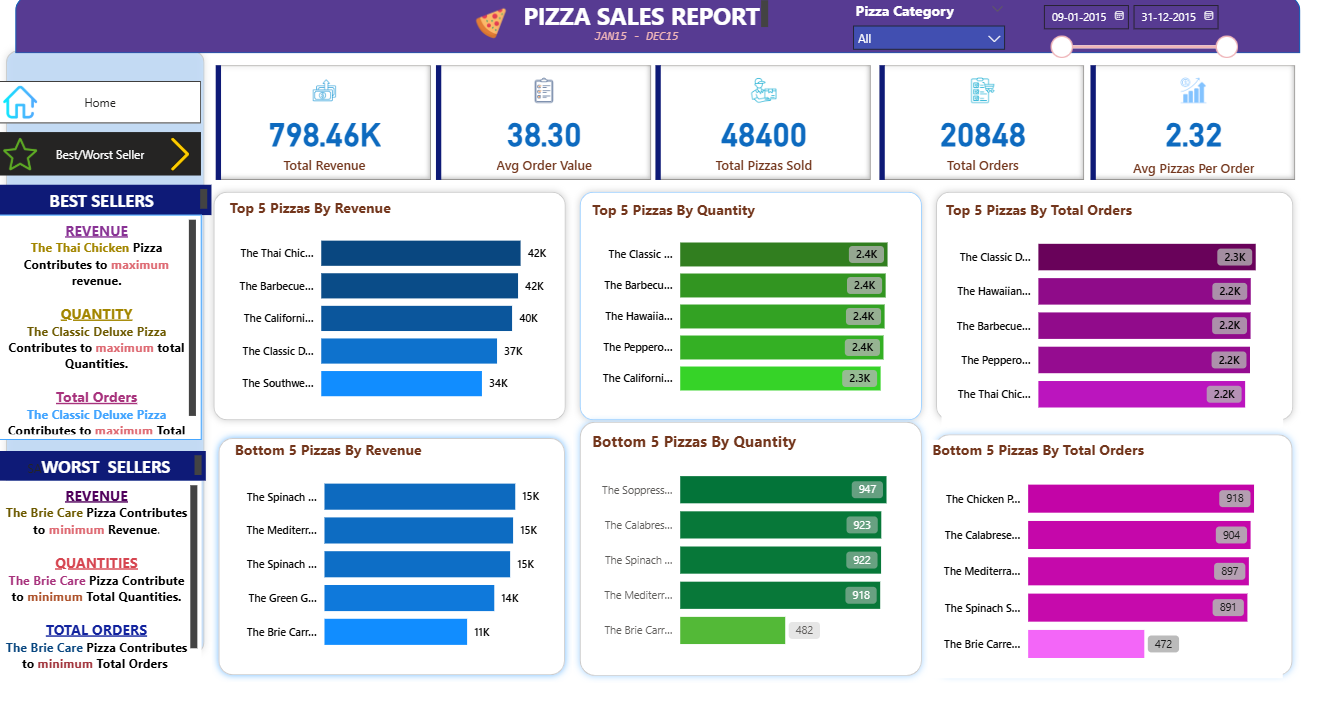

The dashboard page shown, as its layout file describes it:
{"tool":"powerbi","page":{"name":"Best/Worst Seller","canvas":[1500,820],"ordinal":1},"visuals":[{"type":"shape","box":[0,53.8,240.8,699.9],"z":0},{"type":"textbox","box":[0,516.2,234.8,33.8],"z":1000},{"type":"cardVisual","fields":{"Data":["pizza_sales.Total Revenue","pizza_sales.Avg Order Value","pizza_sales.Total Pizzas Sold"]},"box":[240.8,73.7,752.3,140.3],"z":2000},{"type":"cardVisual","fields":{"Data":["pizza_sales.Total Orders","pizza_sales.Avg Pizzas Per Order"]},"box":[993.1,73.7,481.7,140.3],"z":3000},{"type":"shape","box":[18.4,0,1456.4,65.2],"z":4000},{"type":"textbox","box":[589.4,0,287.6,42.5],"z":5000},{"type":"textbox","box":[667.3,31.2,110.5,34],"z":6000},{"type":"image","box":[525.6,8.5,63.8,45.3],"z":7000},{"type":"shape","box":[650.3,213.9,403.8,274.8],"z":8000},{"type":"shape","box":[235.2,213.9,415.1,274.8],"z":9000},{"type":"textbox","box":[0,213.9,240.8,34],"z":10000},{"type":"textbox","box":[0,247.9,229.5,255],"z":11000},{"type":"textbox","box":[0,549.7,229.5,223.8],"z":12000},{"type":"slicer","fields":{"Values":["pizza_sales.pizza_category"]},"box":[957.7,0,192.7,65.2],"z":13000},{"type":"slicer","fields":{"Values":["pizza_sales.order_date"]},"box":[1171.6,0,240.8,73.7],"z":14000},{"type":"shape","box":[1054,213.9,420.8,274.8],"z":15000},{"type":"shape","box":[241.2,493.7,408.4,284.6],"z":16000},{"type":"shape","box":[649.7,474.4,403.6,303.9],"z":17000},{"type":"shape","box":[1053.3,488.9,421.3,289.5],"z":18000},{"type":"barChart","title":"Top 5 Pizzas By Revenue","fields":{"Category":["pizza_sales.pizza_name"],"Y":["pizza_sales.Total Revenue"]},"box":[256.4,228.1,385.4,246.5],"z":19000},{"type":"barChart","title":"Bottom 5 Pizzas By Revenue","fields":{"Category":["pizza_sales.pizza_name"],"Y":["pizza_sales.Total Revenue"]},"box":[262.1,503.3,374.7,254.1],"z":20000},{"type":"barChart","title":"Top 5 Pizzas By Quantity","fields":{"Category":["pizza_sales.pizza_name"],"Y":["pizza_sales.Total Pizzas Sold"]},"box":[667.3,231.6,369.9,236.4],"z":21000},{"type":"barChart","title":"Bottom 5 Pizzas By Quantity","fields":{"Category":["pizza_sales.pizza_name"],"Y":["pizza_sales.Total Pizzas Sold"]},"box":[667.3,493.7,369.9,263.7],"z":22000},{"type":"barChart","title":"Top 5 Pizzas By Total Orders","fields":{"Category":["pizza_sales.pizza_name"],"Y":["pizza_sales.Total Orders"]},"box":[1067.8,231.6,387.5,257.3],"z":23000},{"type":"barChart","title":"Bottom 5 Pizzas By Total Orders","fields":{"Category":["pizza_sales.pizza_name"],"Y":["pizza_sales.Total Orders"]},"box":[1053.3,503.3,402,270.2],"z":24000},{"type":"pageNavigator","box":[0,154.4,229.5,49.6],"z":24001},{"type":"pageNavigator","box":[0,96.3,229.5,48.2],"z":24002},{"type":"image","box":[181.3,154.4,48.2,49.6],"z":24003},{"type":"image","box":[0,96.3,48.2,48.2],"z":24004},{"type":"image","box":[0,154.4,48.2,49.6],"z":24005}]}

Visuals, with their boxes in screenshot pixels (x1, y1, x2, y2), scaled from the page's 1500x820 canvas onto the 1321x718 screenshot:
shape: [0,47,212,660]
textbox: [0,452,207,482]
cardVisual - pizza_sales.Total Revenue x pizza_sales.Avg Order Value: [212,65,875,187]
cardVisual - pizza_sales.Total Orders x pizza_sales.Avg Pizzas Per Order: [875,65,1299,187]
shape: [16,0,1299,57]
textbox: [519,0,772,37]
textbox: [588,27,685,57]
image: [463,7,519,47]
shape: [573,187,928,428]
shape: [207,187,573,428]
textbox: [0,187,212,217]
textbox: [0,217,202,440]
textbox: [0,481,202,677]
slicer - pizza_sales.pizza_category: [843,0,1013,57]
slicer - pizza_sales.order_date: [1032,0,1244,65]
shape: [928,187,1299,428]
shape: [212,432,572,681]
shape: [572,415,928,681]
shape: [928,428,1299,682]
"Top 5 Pizzas By Revenue" barChart: [226,200,565,416]
"Bottom 5 Pizzas By Revenue" barChart: [231,441,561,663]
"Top 5 Pizzas By Quantity" barChart: [588,203,913,410]
"Bottom 5 Pizzas By Quantity" barChart: [588,432,913,663]
"Top 5 Pizzas By Total Orders" barChart: [940,203,1282,428]
"Bottom 5 Pizzas By Total Orders" barChart: [928,441,1282,677]
pageNavigator: [0,135,202,179]
pageNavigator: [0,84,202,127]
image: [160,135,202,179]
image: [0,84,42,127]
image: [0,135,42,179]
